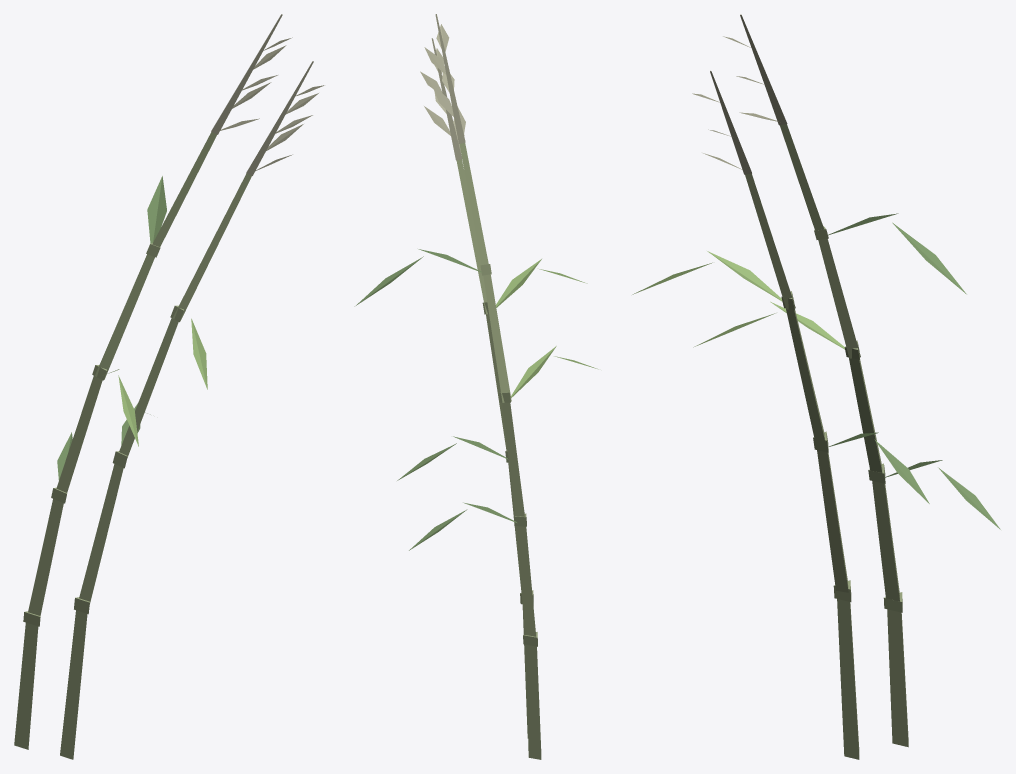
The model's file is shui.luwei@fruiting__spring.glb.
The picture shows the model from 3 angles, left to right: view 1: azimuth 30°, elevation 25°; view 2: azimuth 150°, elevation 25°; view 3: azimuth 270°, elevation 25°; orthographic projection. The views are drawn at different scales.
Visible parts, largest first — view 1: shui.luwei@fruiting__spring; view 2: shui.luwei@fruiting__spring; view 3: shui.luwei@fruiting__spring.
Boxes of the visible parts, left/top/right/bottom form: shui.luwei@fruiting__spring: left=14, top=14, right=324, bottom=759; shui.luwei@fruiting__spring: left=354, top=14, right=598, bottom=759; shui.luwei@fruiting__spring: left=632, top=14, right=1000, bottom=759.
Size of the model in its own units: 1 by 3.2 by 1.3.
